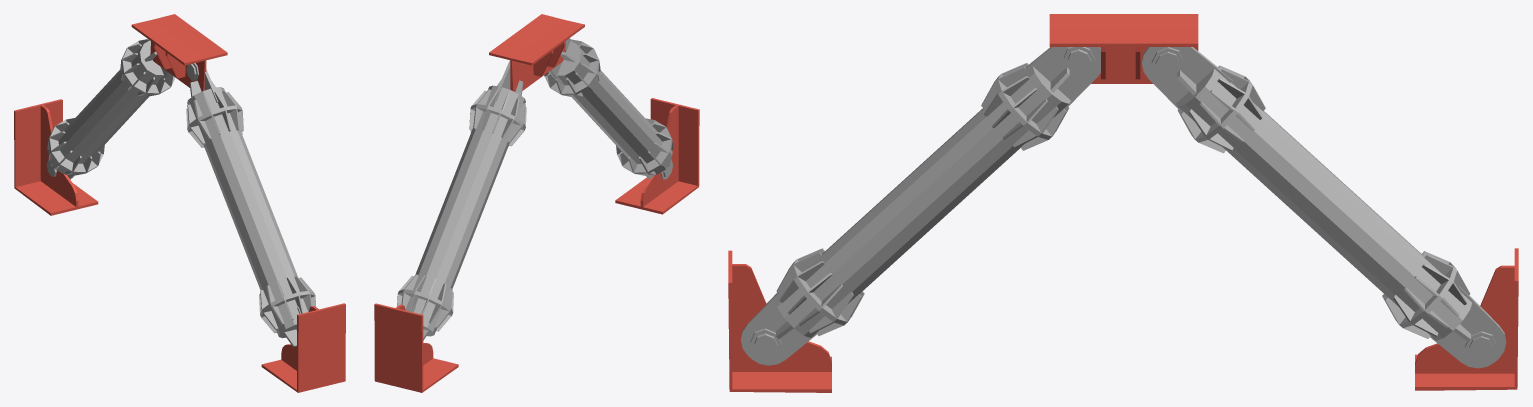
Rendered from steel_brace_vibration_isolation.glb.
3 renders of one model, left to right at view 1: azimuth 30°, elevation 25°; view 2: azimuth 150°, elevation 25°; view 3: azimuth 270°, elevation 25°, orthographic. The views are drawn at different scales.
Visible parts, largest first — view 1: Cube.010, Cube.011, Plane.026, Plane.006, Plane.027; view 2: Cube.011, Cube.010, Plane.026, Plane.006, Plane.027; view 3: Cube.011, Cube.010, Plane.027, Plane.006, Plane.026.
Boxes of the visible parts, x1=… form: Cube.010: x1=186, y1=63, x2=315, y2=347; Cube.011: x1=46, y1=39, x2=175, y2=179; Plane.026: x1=14, y1=99, x2=98, y2=215; Plane.006: x1=261, y1=303, x2=345, y2=392; Plane.027: x1=131, y1=14, x2=227, y2=91; Cube.011: x1=397, y1=60, x2=526, y2=340; Cube.010: x1=544, y1=38, x2=673, y2=179; Plane.026: x1=374, y1=303, x2=458, y2=392; Plane.006: x1=615, y1=98, x2=699, y2=214; Plane.027: x1=489, y1=14, x2=584, y2=91; Cube.011: x1=1142, y1=47, x2=1506, y2=368; Cube.010: x1=740, y1=47, x2=1100, y2=365; Plane.027: x1=1049, y1=14, x2=1198, y2=83; Plane.006: x1=728, y1=250, x2=831, y2=392; Plane.026: x1=1415, y1=248, x2=1518, y2=390.
Size of the model in its own units: 0.9827 by 4.23 by 8.73.
